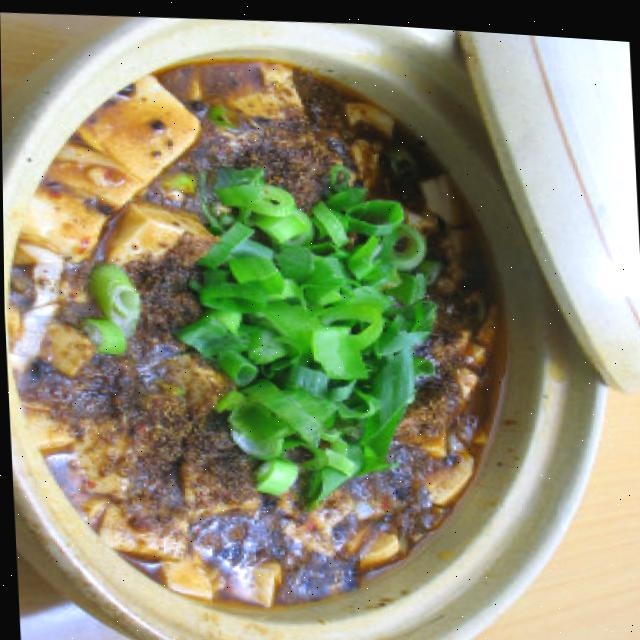豆腐料理: (0, 0, 632, 640)
